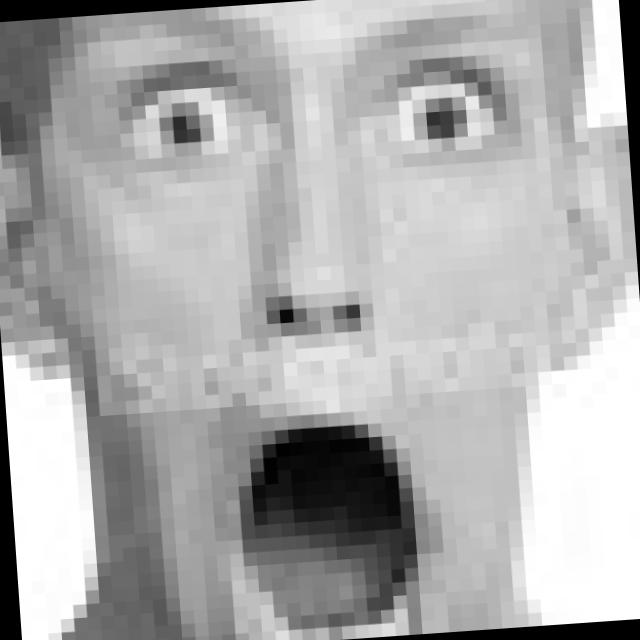surprise: (89, 17, 560, 640)
